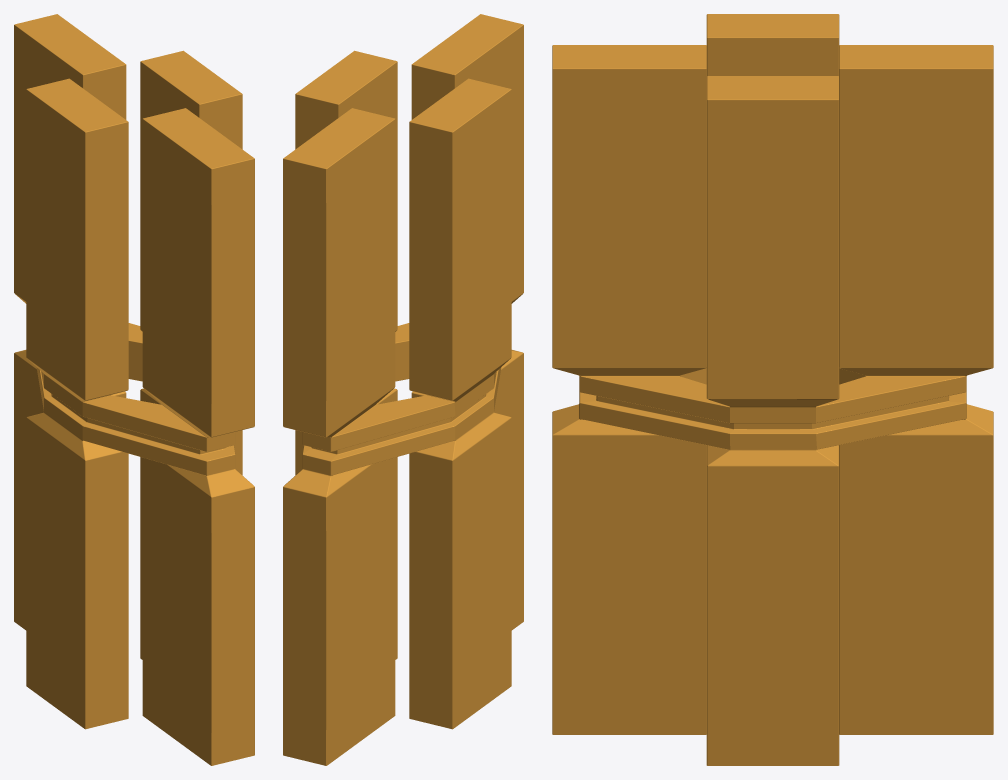
Rendered from WallRunsColumnSupport.fbx.
The picture shows the model from 3 angles, left to right: view 1: azimuth 30°, elevation 25°; view 2: azimuth 150°, elevation 25°; view 3: azimuth 270°, elevation 25°; orthographic projection. The views are drawn at different scales.
Parts seen in each view (by area): view 1: Container_WallRun_15m.002; view 2: Container_WallRun_15m.002; view 3: Container_WallRun_15m.002.
Part boxes in pixels (box(x1,y1,x2,y2)): Container_WallRun_15m.002: box(14, 14, 254, 765); Container_WallRun_15m.002: box(283, 14, 523, 765); Container_WallRun_15m.002: box(552, 14, 993, 765).
Size of the model in its own units: 277 by 1000 by 600.
